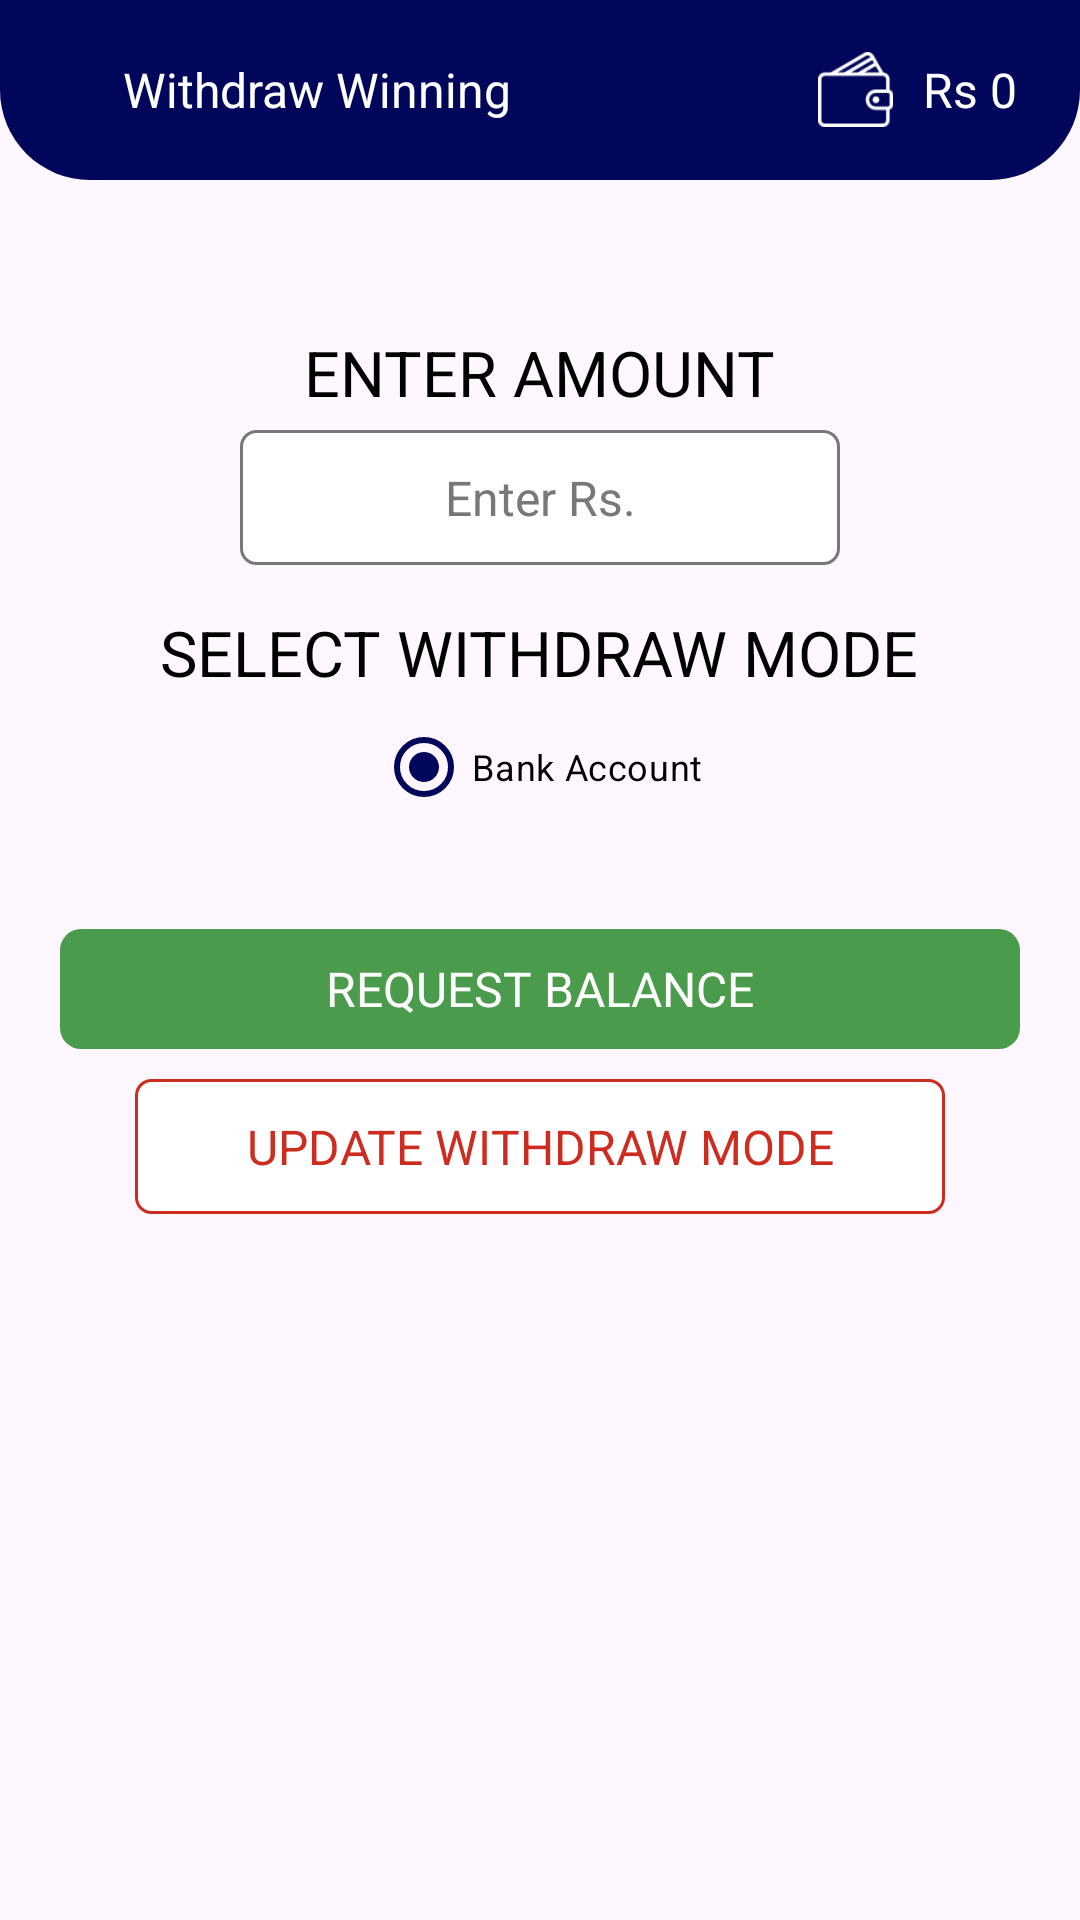

Named icons in this screenshot (1080 × 1920) and their bounding boxes, [x1=x1, y1=y1, x2=x2, y2=y2]:
wallet: [x1=818, y1=52, x2=893, y2=127]
